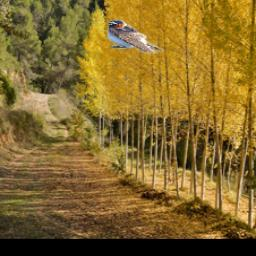Swallow: (108, 19, 164, 53)
